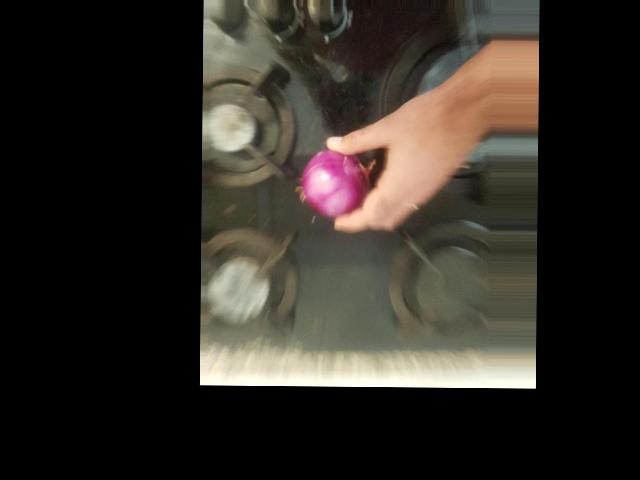onion: (305, 129, 384, 216)
